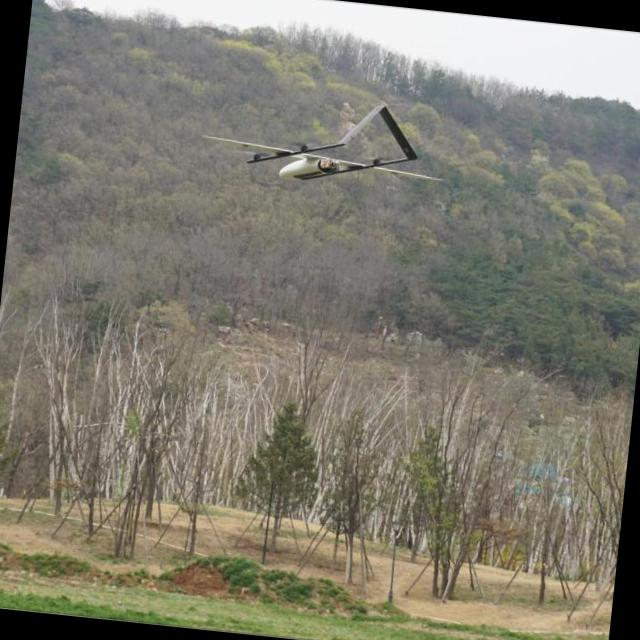UAV: (184, 83, 429, 225)
